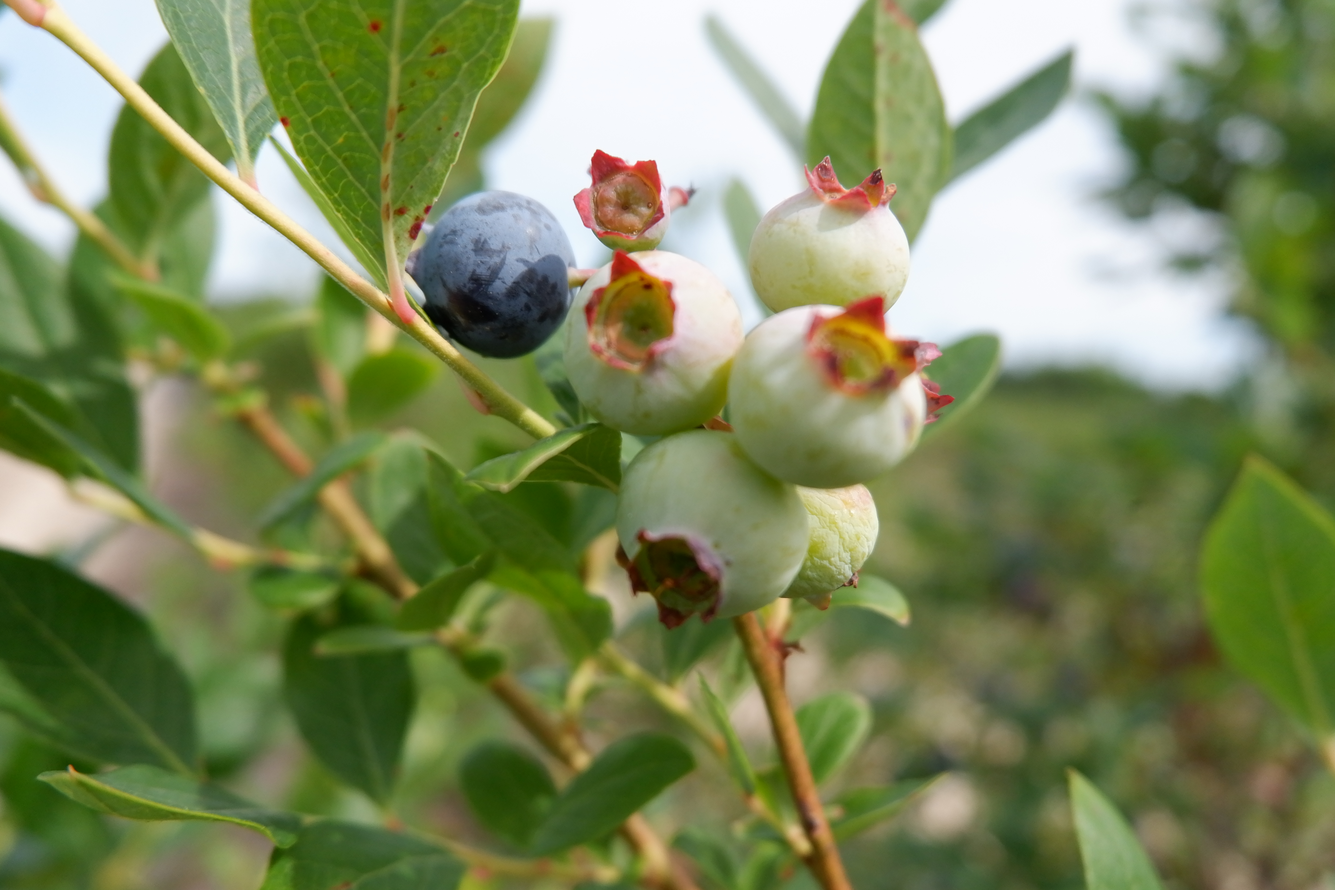Immature: (728, 311, 940, 485), (617, 432, 806, 619), (565, 255, 742, 434), (750, 165, 907, 312), (787, 489, 875, 606), (579, 155, 681, 249)
Mature: (412, 196, 569, 352)
